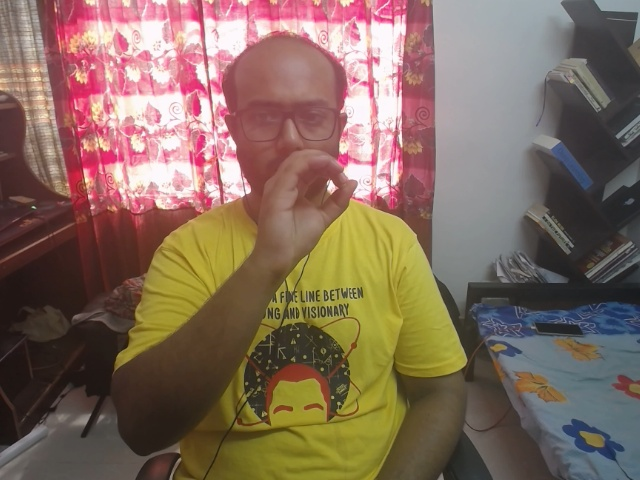zero: (207, 142, 380, 305)
